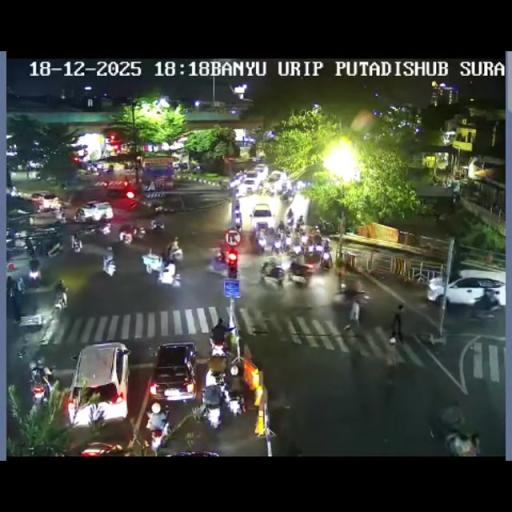Car: (67, 342, 130, 426), (148, 342, 198, 404), (426, 274, 504, 307), (74, 201, 112, 223), (76, 441, 126, 455), (250, 203, 274, 231), (104, 178, 134, 198), (30, 192, 61, 211), (264, 170, 286, 194), (242, 176, 262, 194), (252, 163, 269, 179)
Motorcycle: (256, 219, 326, 255), (338, 283, 366, 329), (430, 399, 458, 445), (199, 384, 226, 428), (206, 333, 232, 378), (29, 364, 55, 406), (259, 260, 286, 289), (147, 417, 170, 451), (222, 384, 244, 418), (156, 259, 182, 287), (6, 278, 22, 322), (5, 231, 29, 255), (288, 262, 310, 287), (208, 249, 229, 275), (102, 247, 116, 275), (53, 284, 68, 310), (166, 238, 182, 262), (46, 239, 65, 258), (77, 224, 100, 238), (319, 242, 332, 266), (30, 239, 45, 257), (28, 265, 42, 284), (255, 230, 267, 252), (279, 249, 291, 271), (271, 235, 283, 255), (70, 233, 82, 253), (149, 199, 164, 214), (294, 179, 310, 193), (281, 184, 294, 201), (132, 225, 146, 240), (150, 217, 164, 232), (320, 220, 335, 234), (282, 232, 293, 250), (98, 221, 112, 235), (227, 262, 238, 278), (120, 231, 132, 244), (292, 240, 302, 255), (276, 219, 286, 234), (6, 185, 18, 197), (299, 232, 309, 246), (296, 222, 306, 236), (56, 208, 66, 222), (234, 214, 242, 230), (313, 232, 322, 246), (219, 178, 228, 192), (98, 165, 108, 177), (17, 346, 27, 358), (190, 163, 201, 172), (286, 215, 294, 227), (338, 280, 346, 292), (99, 180, 108, 188)
